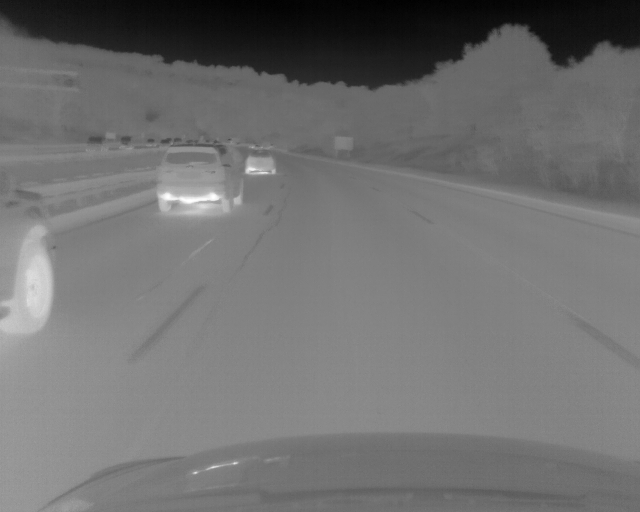car: (1, 167, 58, 340), (155, 143, 244, 213), (245, 149, 277, 175), (85, 136, 109, 154), (117, 136, 133, 150), (145, 138, 155, 147)
